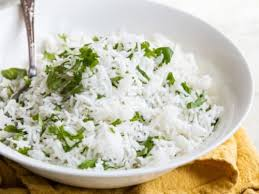rice: (4, 29, 223, 170)
